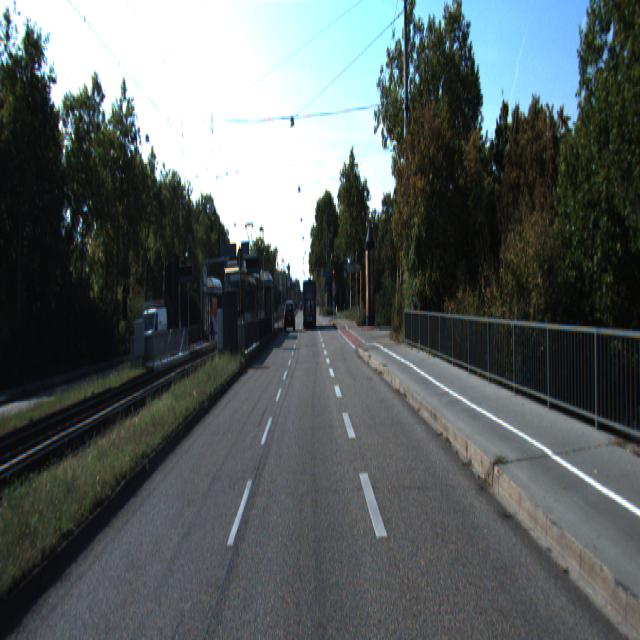Car: (221, 258, 262, 346), (138, 306, 168, 361), (302, 278, 316, 328), (285, 302, 295, 333)
